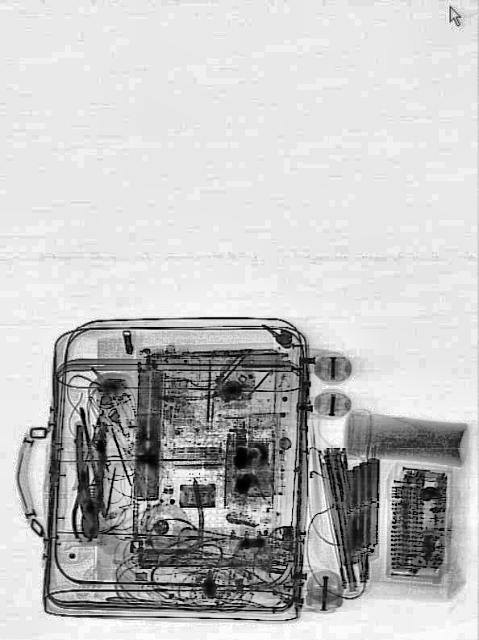Pliers: (72, 424, 106, 538), (70, 464, 96, 540)
